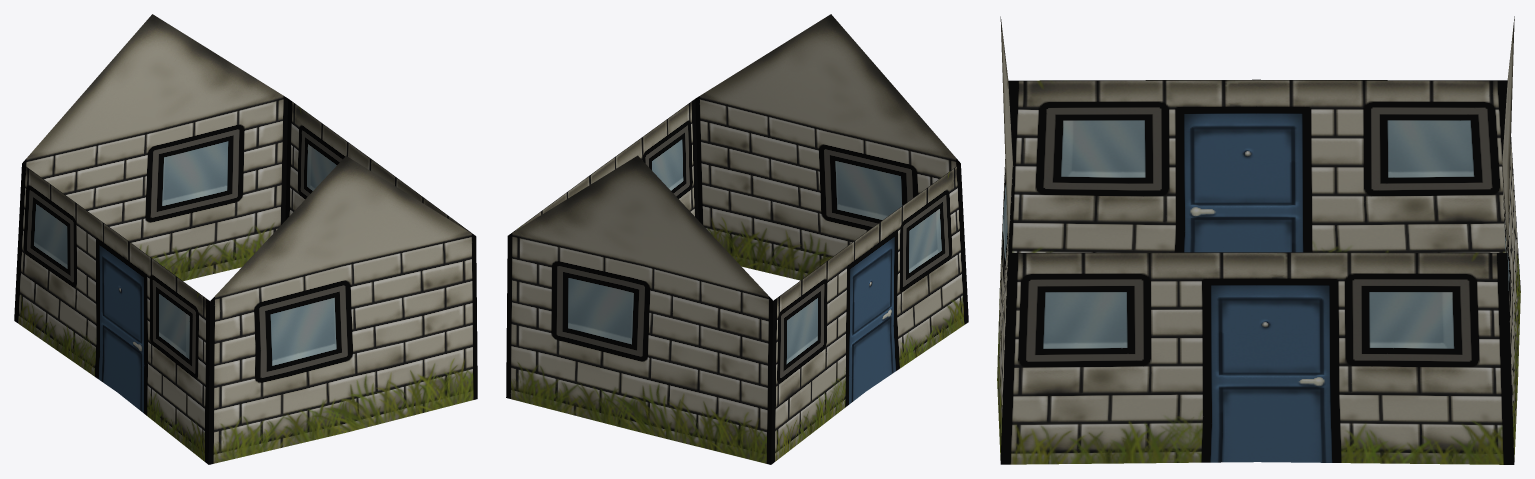
The model's file is house_04.FBX.
3 views of the same model, side by side, from view 1: azimuth 30°, elevation 25°; view 2: azimuth 150°, elevation 25°; view 3: azimuth 270°, elevation 25° (orthographic). The views are drawn at different scales.
Visible parts, largest first — view 1: house_04; view 2: house_04; view 3: house_04.
Part boxes in pixels (left/top/right/bottom): house_04: left=14, top=14, right=477, bottom=464; house_04: left=506, top=14, right=968, bottom=464; house_04: left=997, top=16, right=1520, bottom=464.
Bounding box in the file's own units: 574 × 559 × 725.
